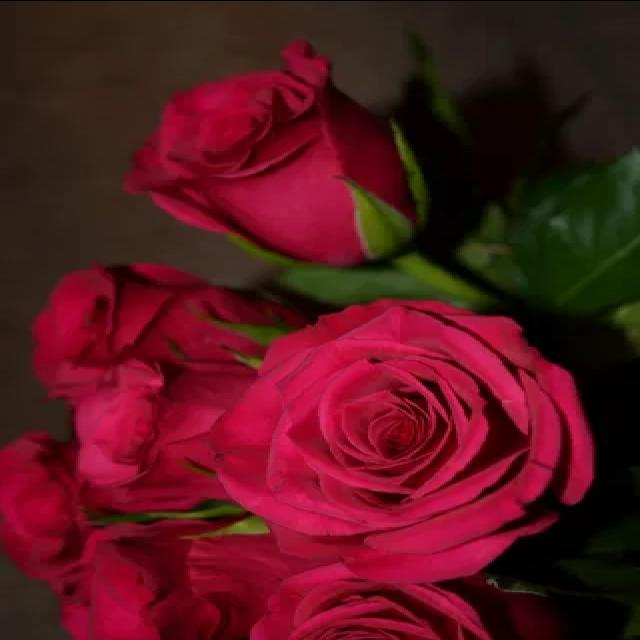rose: (198, 290, 608, 582), (126, 43, 434, 273)
